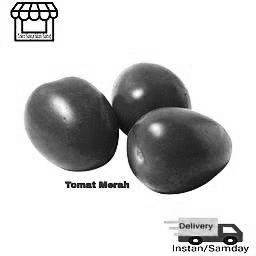bukan telur: (125, 109, 232, 194), (25, 75, 120, 170), (115, 62, 192, 120)
